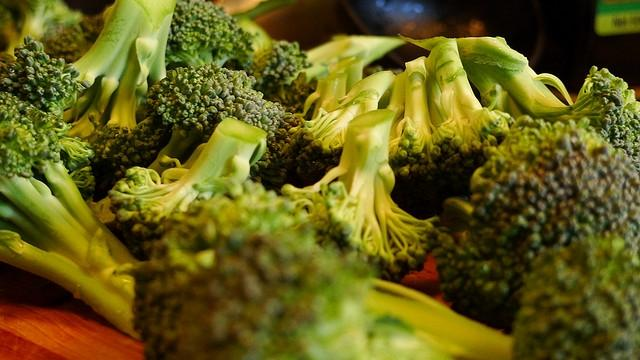broccoli: (113, 223, 513, 360), (250, 38, 514, 220), (424, 114, 640, 336), (0, 37, 141, 342), (398, 32, 640, 172), (281, 108, 443, 283), (62, 0, 178, 200), (106, 118, 268, 260), (146, 61, 295, 178), (512, 234, 640, 360), (246, 36, 406, 116), (164, 0, 260, 68), (0, 0, 84, 60), (38, 14, 105, 64), (292, 71, 348, 120)
